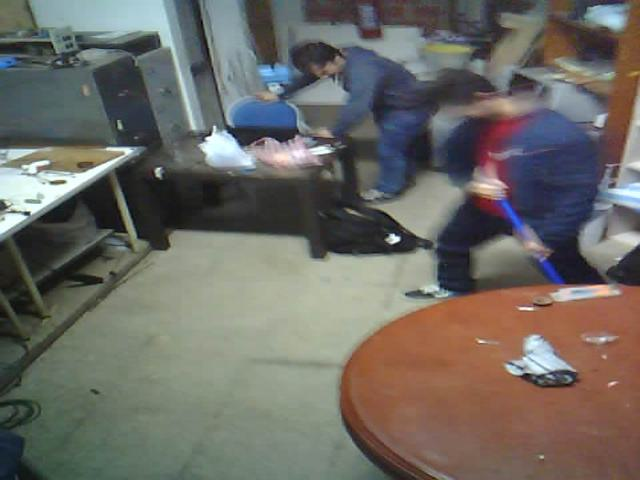person: (414, 57, 640, 329), (268, 13, 434, 221)
